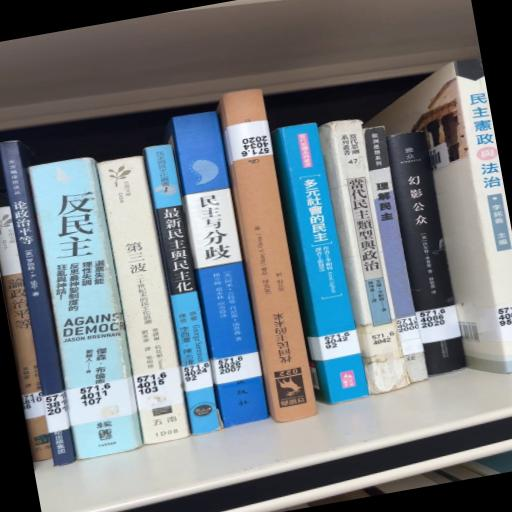reverse: (218, 90, 317, 422)
